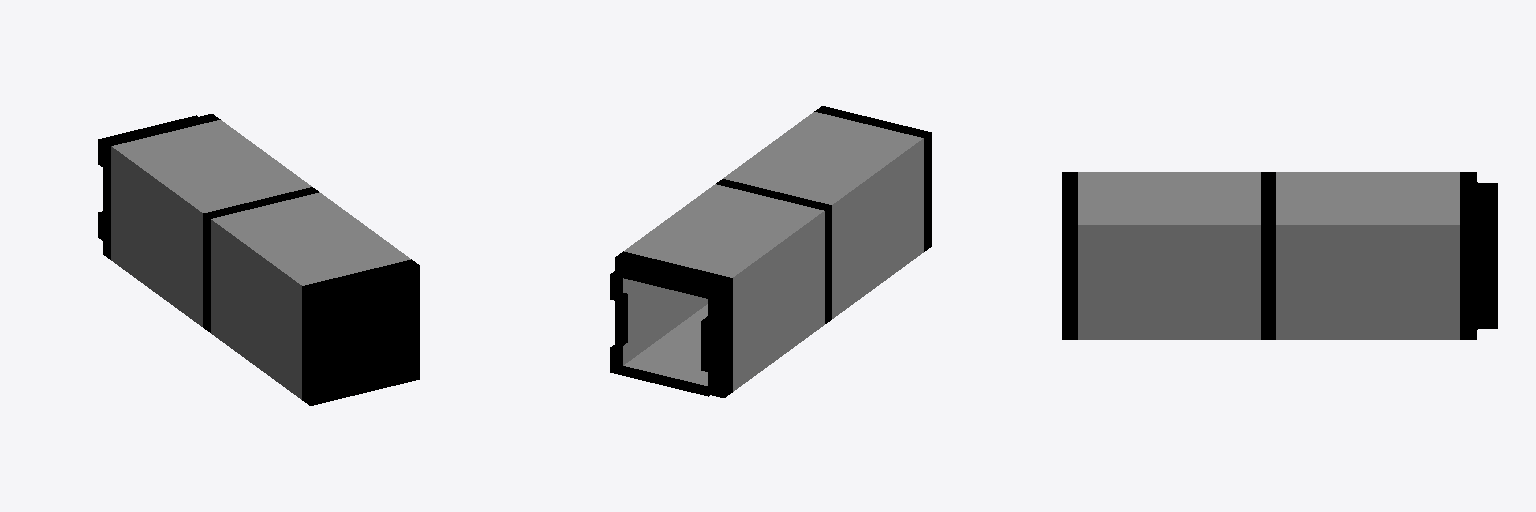
Rendered from skyscraper_windowA_03.obj.
The picture shows the model from 3 angles: view 1: azimuth 30°, elevation 25°; view 2: azimuth 150°, elevation 25°; view 3: azimuth 270°, elevation 25°; orthographic projection.
Parts seen in each view (by area): view 1: Object20; view 2: Object20; view 3: Object20.
Part boxes in pixels (x1,y1,x2,y2): Object20: (98,114,419,405); Object20: (610,106,931,397); Object20: (1062,172,1497,339).
Size of the model in its own units: 40 by 40 by 138.